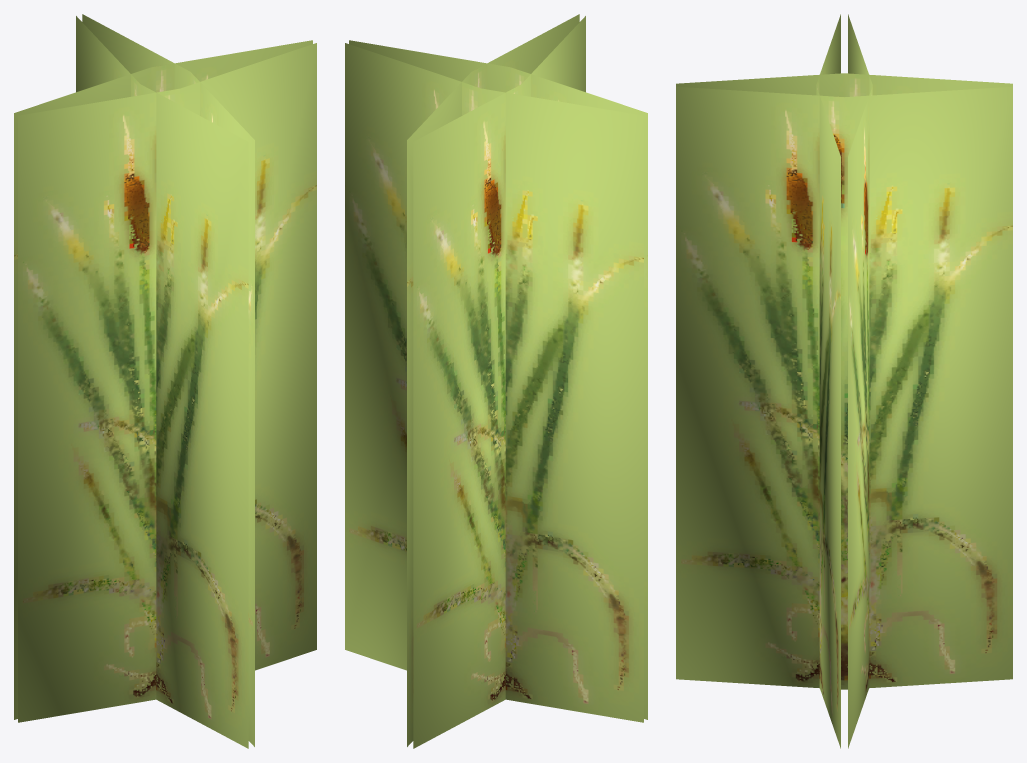
Rendered from cattails.glb.
3 views of the same model, side by side, from view 1: azimuth 30°, elevation 25°; view 2: azimuth 150°, elevation 25°; view 3: azimuth 270°, elevation 25° (orthographic). The views are drawn at different scales.
Bounding box in the file's own units: 3.66 × 7.1 × 3.66.
Materials: 1 (1 with a texture image).
